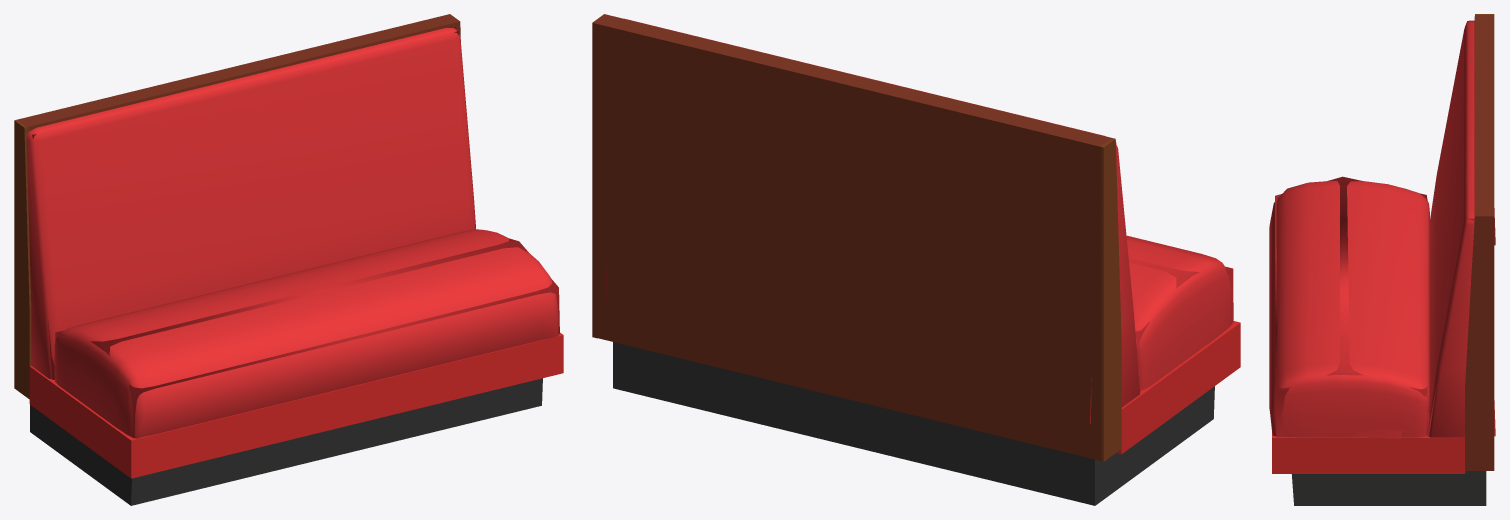
The model's file is sofa.fbx.
3 renders of one model, left to right at view 1: azimuth 30°, elevation 25°; view 2: azimuth 150°, elevation 25°; view 3: azimuth 270°, elevation 25°, orthographic. The views are drawn at different scales.
Parts seen in each view (by area): view 1: Box006, Cube.005; view 2: Box006, Cube.005; view 3: Box006, Cube.005.
Boxes of the visible parts, x1=… form: Box006: x1=14, y1=28, x2=563, y2=440; Cube.005: x1=16, y1=14, x2=563, y2=505; Box006: x1=592, y1=18, x2=1240, y2=505; Cube.005: x1=592, y1=14, x2=1240, y2=505; Box006: x1=1269, y1=14, x2=1494, y2=505; Cube.005: x1=1275, y1=15, x2=1495, y2=505.
Size of the model in its own units: 69.28 by 47.29 by 32.8.
